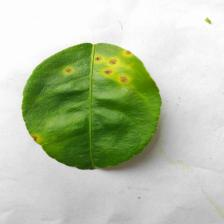canker: (55, 51, 144, 95)
